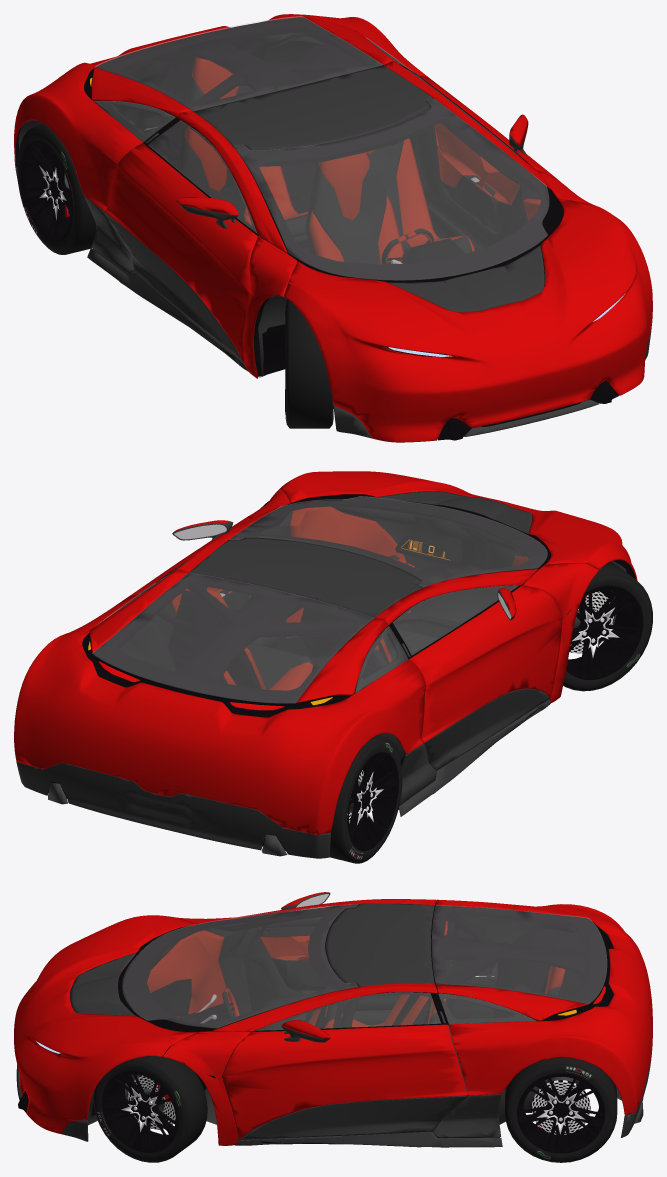
Rendered from concept.glb.
3 renders of one model, top to bottom at view 1: azimuth 30°, elevation 25°; view 2: azimuth 150°, elevation 25°; view 3: azimuth 270°, elevation 25°, orthographic. The views are drawn at different scales.
Parts seen in each view (by area): view 1: BodyHood, BodyWindshield, BodyRearwindow, BodyDoorRColor1, BodyRearPanelsColor1, BodyWindshieldGasket, BodyRoofPanel, InteriorSeatsColor1, InteriorSeatsColor2, BodyPillars, InteriorPillar, InteriorRearHatch (+20 smaller); view 2: BodyRearPanelsColor1, BodyRearwindow, BodyWindshield, BodyPanelsColor2, BodyDoorRColor1, BodyRoofPanel, BodyHood, InteriorRearHatch, BodyPillars, InteriorPillar, InteriorDashMid, BodyWindshieldGasket (+21 smaller); view 3: BodyWindshield, BodyRearPanelsColor1, BodyDoorLColor1, BodyHood, BodyRearwindow, BodyRoofPanel, BodyPillars, BodyWindshieldGasket, BodyDoorLColor2, BodyPanelsColor2, WheelFrontL, InteriorRearHatch (+24 smaller).
Boxes of the visible parts, x1=… form: BodyHood: x1=283, y1=198, x2=652, y2=442; BodyWindshield: x1=234, y1=98, x2=549, y2=280; BodyRearwindow: x1=95, y1=16, x2=382, y2=110; BodyDoorRColor1: x1=104, y1=143, x2=257, y2=363; BodyRearPanelsColor1: x1=14, y1=14, x2=428, y2=210; BodyWindshieldGasket: x1=234, y1=99, x2=563, y2=282; BodyRoofPanel: x1=193, y1=65, x2=432, y2=150; InteriorSeatsColor1: x1=185, y1=57, x2=475, y2=264; InteriorSeatsColor2: x1=180, y1=77, x2=471, y2=264; BodyPillars: x1=176, y1=61, x2=599, y2=378; InteriorPillar: x1=158, y1=37, x2=434, y2=168; InteriorRearHatch: x1=94, y1=17, x2=383, y2=117; BodyRearPanelsColor1: x1=14, y1=569, x2=425, y2=834; BodyRearwindow: x1=92, y1=573, x2=373, y2=703; BodyWindshield: x1=229, y1=496, x2=547, y2=587; BodyPanelsColor2: x1=16, y1=700, x2=550, y2=858; BodyDoorRColor1: x1=409, y1=585, x2=562, y2=742; BodyRoofPanel: x1=189, y1=537, x2=422, y2=617; BodyHood: x1=279, y1=471, x2=637, y2=580; InteriorRearHatch: x1=93, y1=573, x2=386, y2=707; BodyPillars: x1=175, y1=489, x2=599, y2=702; InteriorPillar: x1=174, y1=574, x2=417, y2=682; InteriorDashMid: x1=331, y1=502, x2=528, y2=622; BodyWindshieldGasket: x1=230, y1=495, x2=550, y2=587; BodyWindshield: x1=122, y1=904, x2=357, y2=1028; BodyRearPanelsColor1: x1=436, y1=899, x2=652, y2=1115; BodyDoorLColor1: x1=222, y1=1024, x2=467, y2=1140; BodyHood: x1=14, y1=915, x2=196, y2=1133; BodyRearwindow: x1=432, y1=905, x2=606, y2=1003; BodyRoofPanel: x1=326, y1=903, x2=434, y2=986; BodyPillars: x1=163, y1=899, x2=437, y2=1145; BodyWindshieldGasket: x1=118, y1=905, x2=357, y2=1032; BodyDoorLColor2: x1=240, y1=1096, x2=467, y2=1140; BodyPanelsColor2: x1=16, y1=1045, x2=652, y2=1147; WheelFrontL: x1=93, y1=1054, x2=207, y2=1162; InteriorRearHatch: x1=432, y1=905, x2=606, y2=1020.
Bounding box in the file's own units: 2.54 × 1.15 × 4.36.
Materials: 22 (5 with a texture image).
